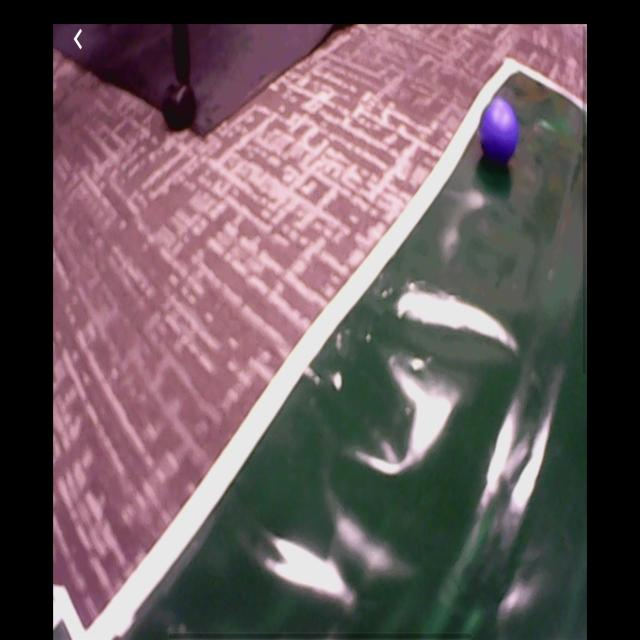ball: (479, 100, 522, 170)
